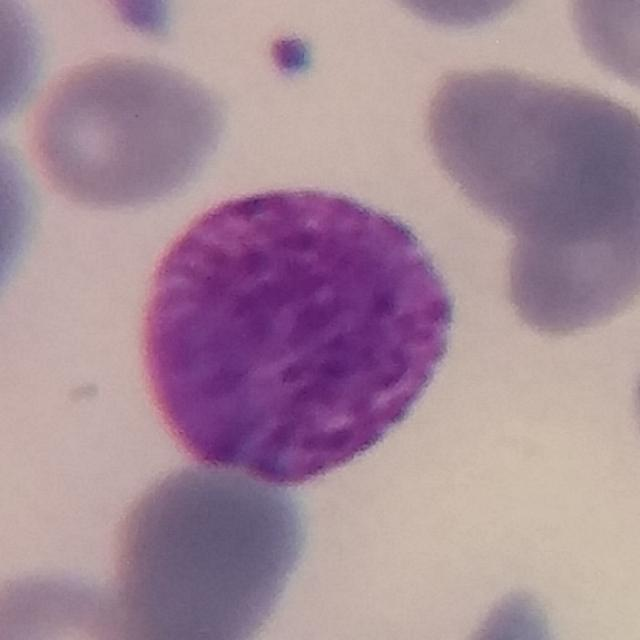Basophil: (120, 163, 473, 501)
Platelets: (103, 1, 182, 41), (264, 27, 318, 84)
RBC: (417, 57, 637, 254), (102, 444, 318, 640), (19, 46, 230, 214), (495, 157, 639, 342), (1, 562, 136, 640), (0, 117, 45, 327), (561, 0, 640, 99), (0, 0, 49, 136), (367, 0, 546, 37), (452, 583, 568, 640)
